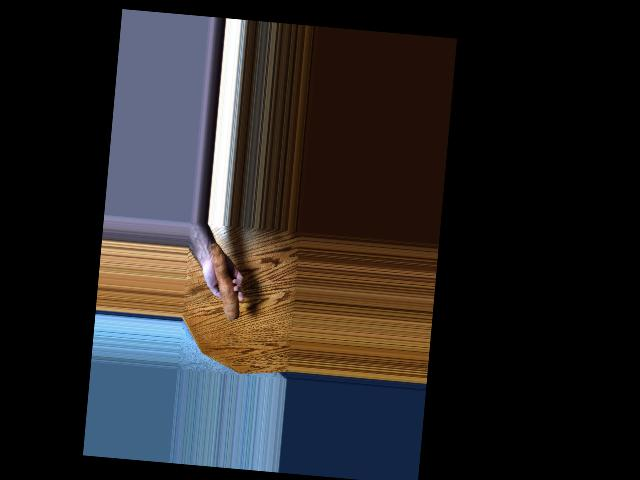sweet_potato: (204, 244, 246, 321)
